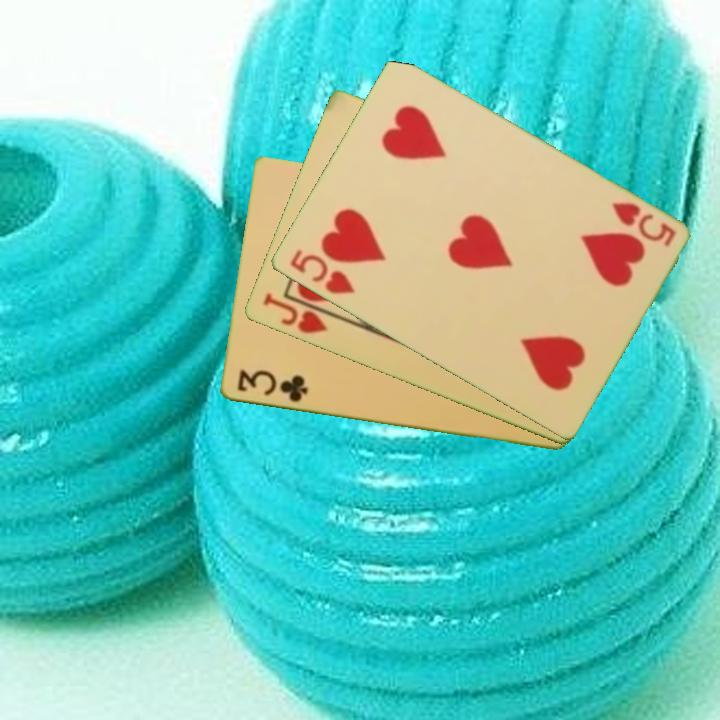3c: (233, 366, 310, 406)
5h: (286, 246, 358, 298), (607, 199, 679, 250)
Jh: (259, 289, 341, 337)
